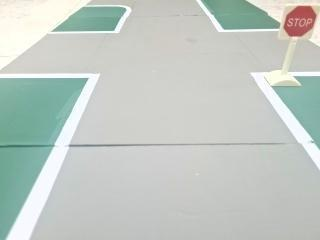stop: (274, 5, 316, 42)
